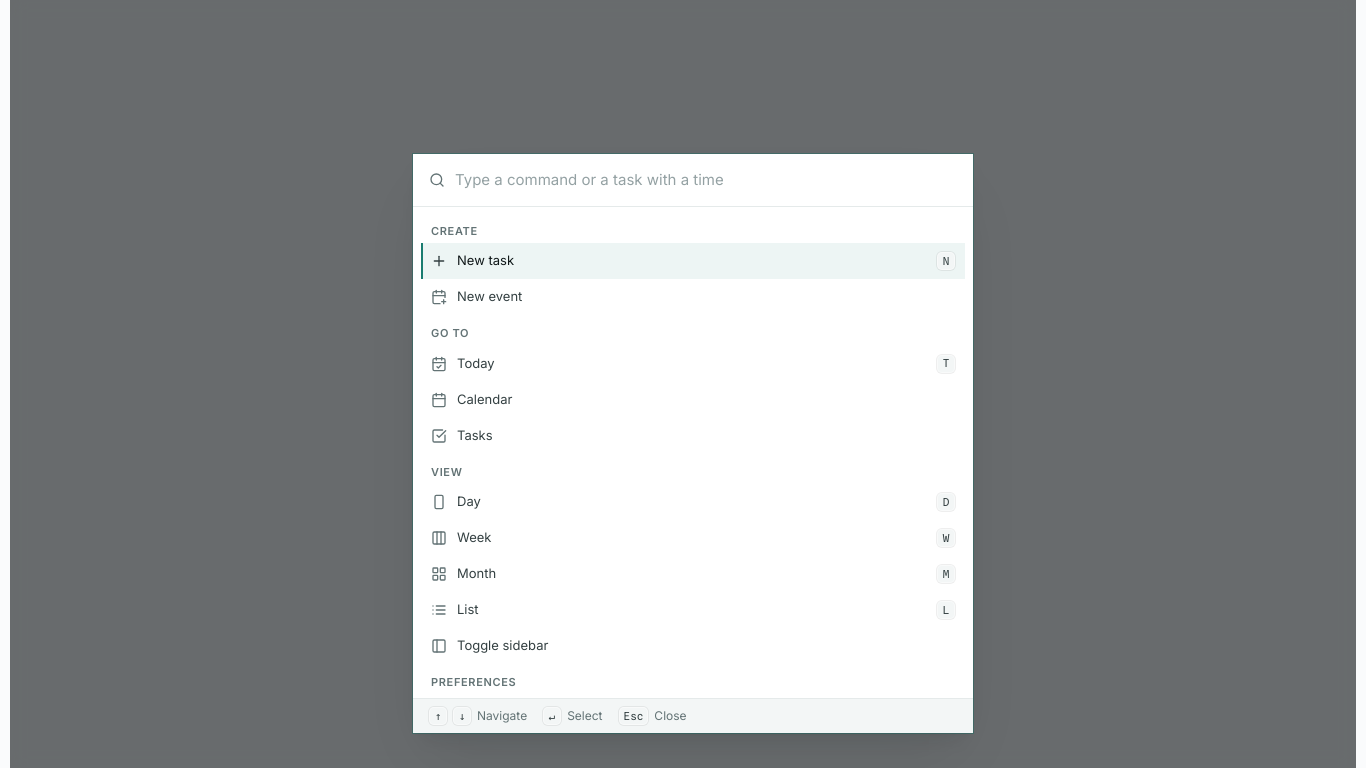
Test: CommandBarPanel (Cmd+K, brief §4.6) › shows the teaching empty state when nothing matches
Type "xyzzy" into the dropdown with placeholder "Type a command or a task with a time".
click(706, 180); type("xyzzy")  # box top-left (455, 154), bottom-right (957, 206)
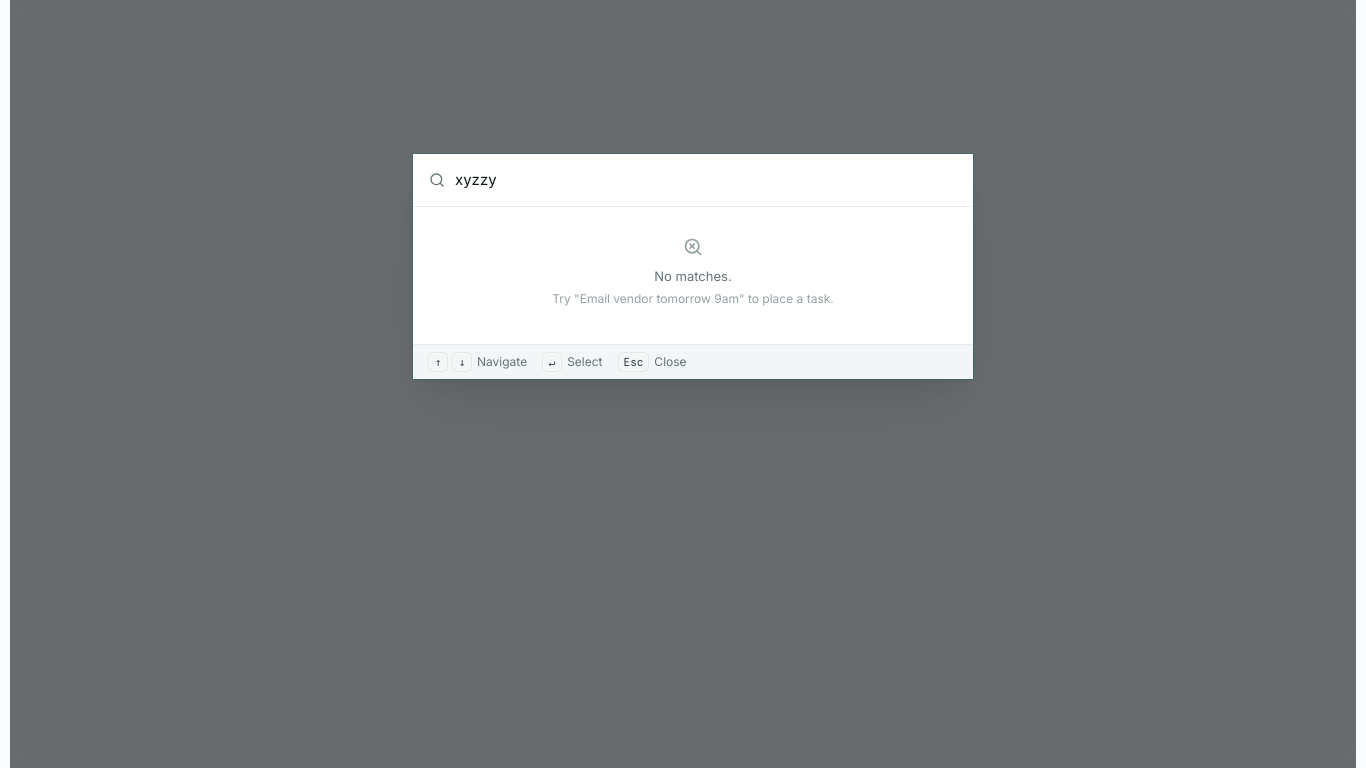
Check: the text "No matches." is shown, box top-left (654, 268), bottom-right (732, 284)
